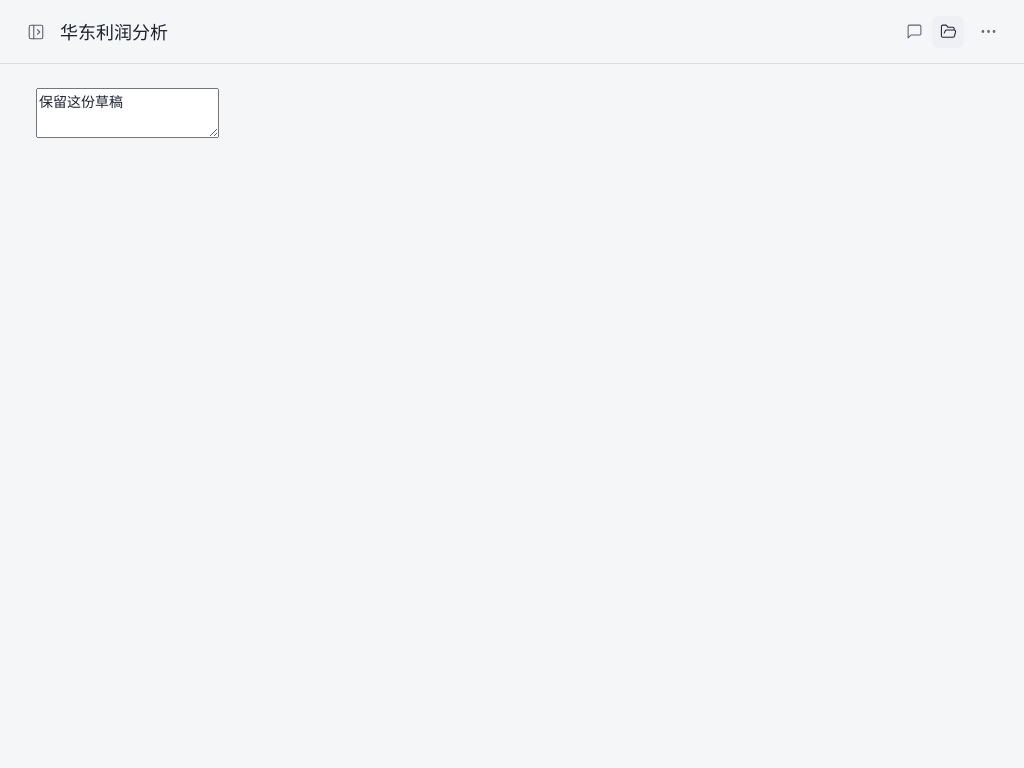
Scenario: one task workspace › renders the task drawer as a titled navigation surface with a separate library footer
Click the button named "展开任务列表".
click(36, 32)  # box [20, 16, 52, 48]
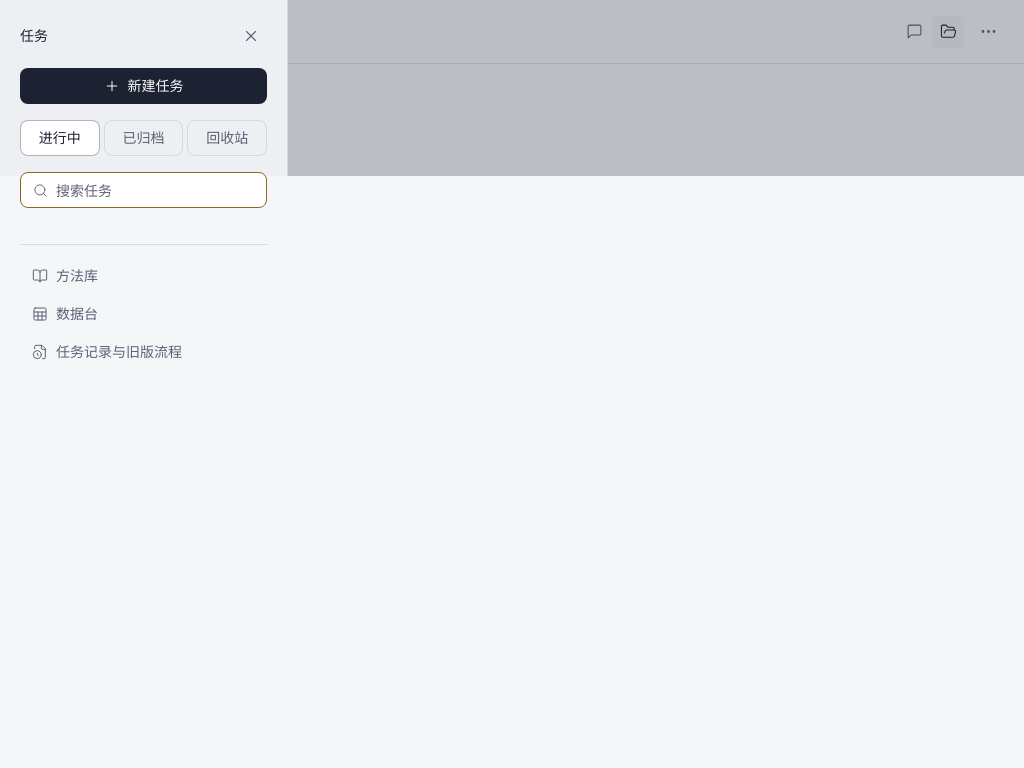
Now the heading "任务" is shown, box [20, 25, 48, 47]
